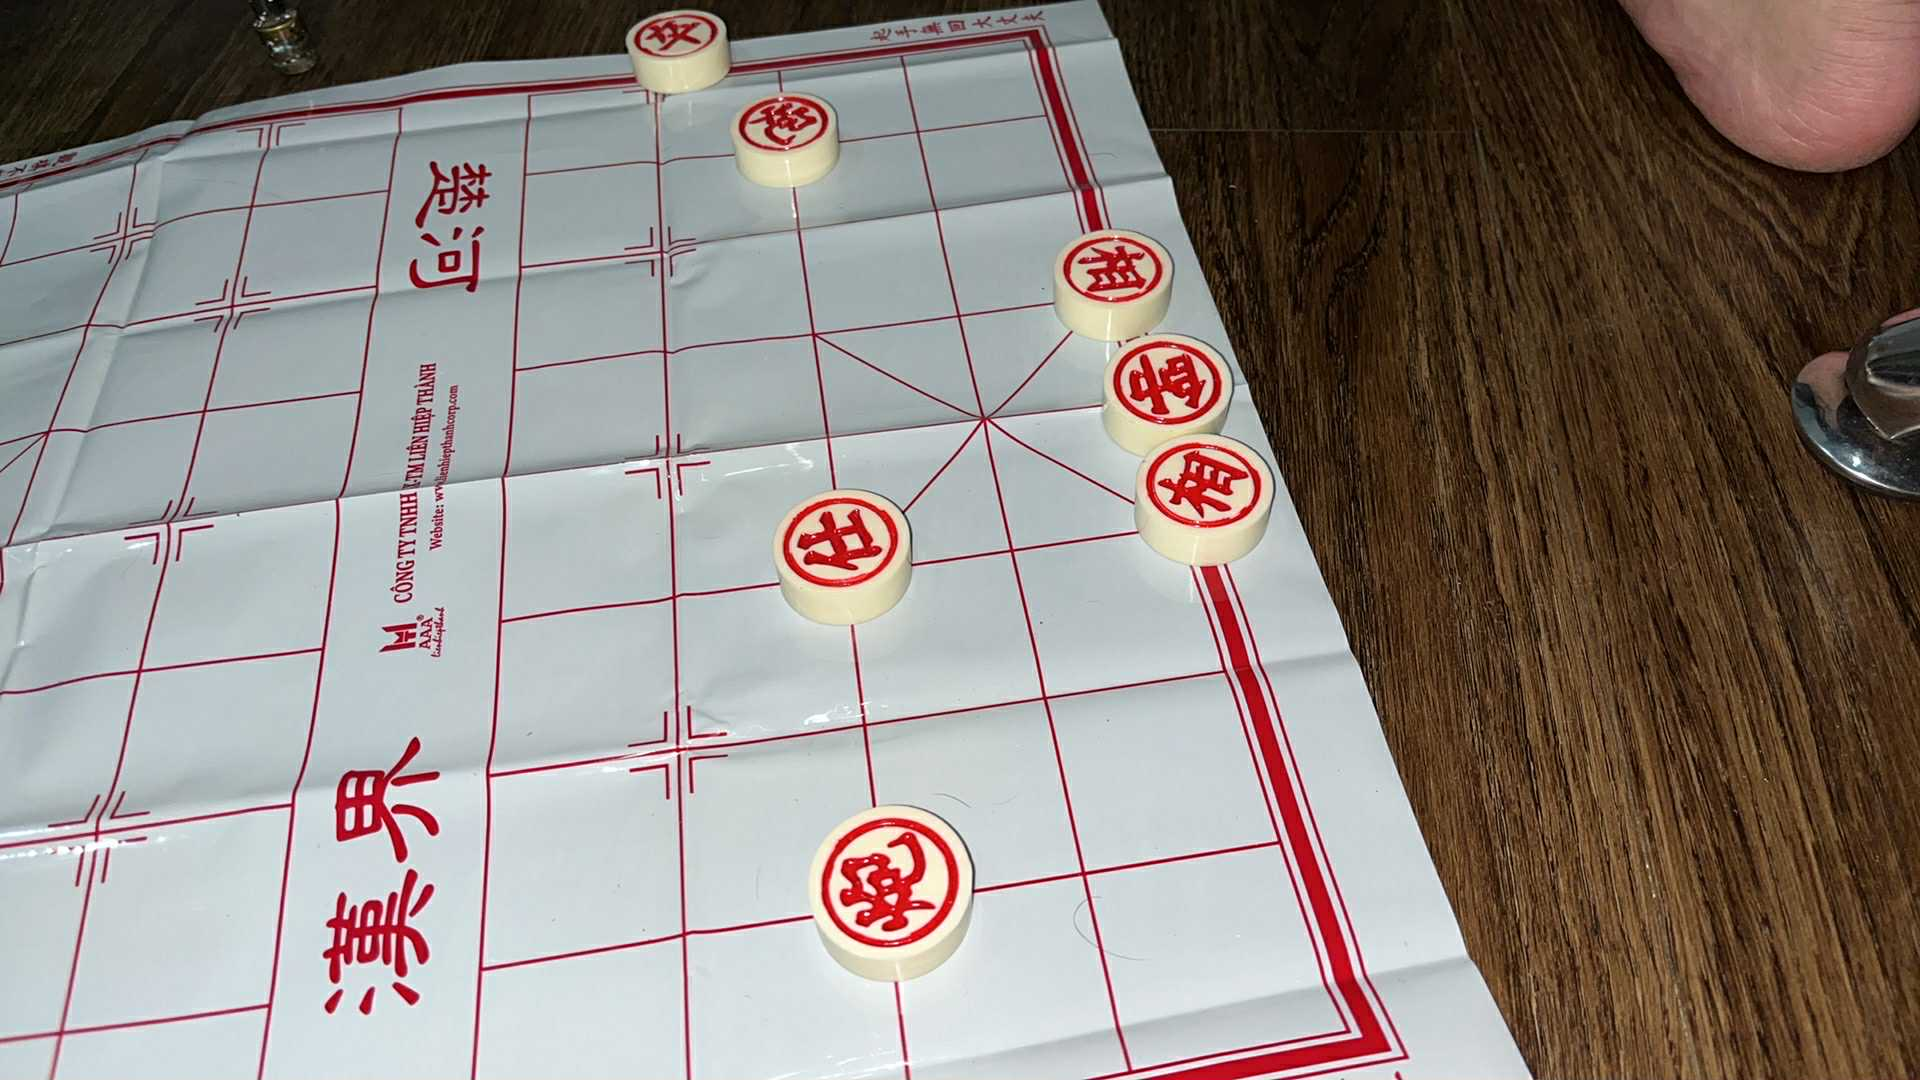red-advisor: (774, 491, 913, 600)
red-cannon: (808, 804, 973, 960), (731, 94, 837, 160)
red-elephant: (1137, 431, 1274, 538), (1051, 228, 1172, 310)
red-general: (1101, 332, 1233, 431)
red-soldier: (625, 9, 728, 65)
